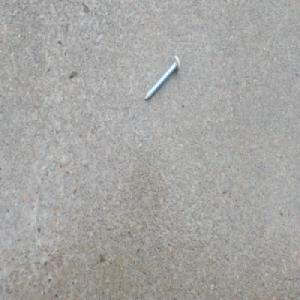Nail: (143, 53, 180, 102)
